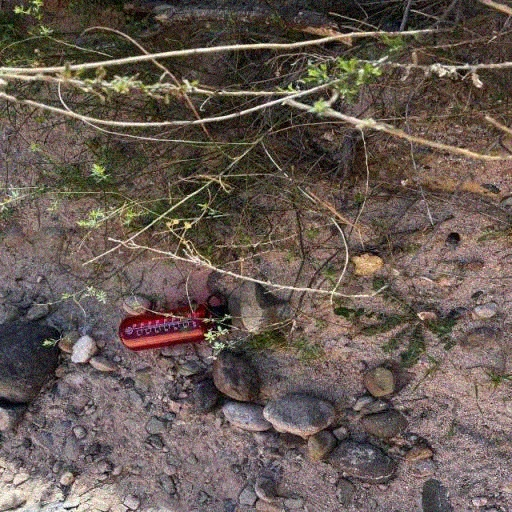bottle: (119, 293, 232, 351)
